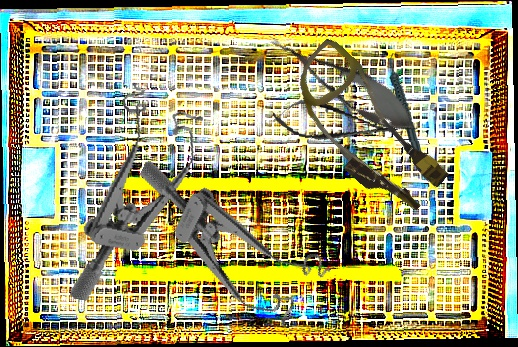Cannula: (269, 35, 465, 224)
Handpiece: (387, 51, 427, 175)
Micro Scissor: (259, 20, 429, 147), (269, 93, 401, 154)
Speculum: (106, 158, 341, 336), (69, 78, 208, 317)
